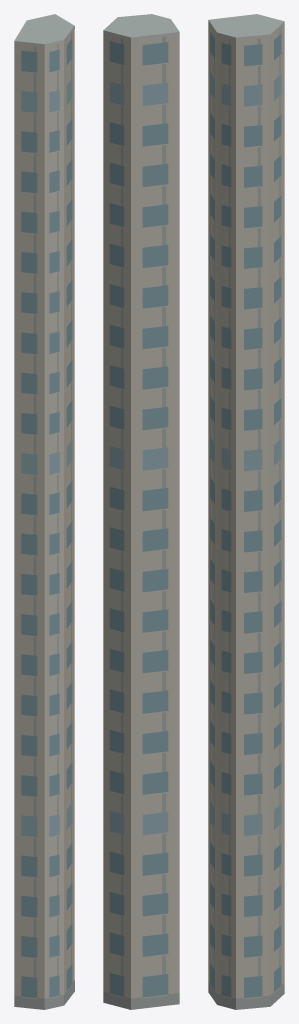
The model's file is survey-upis-32714772.glb.
3 renders of one model, left to right at view 1: azimuth 30°, elevation 25°; view 2: azimuth 150°, elevation 25°; view 3: azimuth 330°, elevation 25°, orthographic.
Visible parts, largest first — view 1: survey-upis-32714772.tmp; view 2: survey-upis-32714772.tmp; view 3: survey-upis-32714772.tmp.
Boxes of the visible parts, <box> form: survey-upis-32714772.tmp: <box>14,14,74,1009</box>; survey-upis-32714772.tmp: <box>103,14,179,1009</box>; survey-upis-32714772.tmp: <box>208,14,284,1009</box>.
Bounding box in the file's own units: 4.86 × 73.2 × 4.02.
